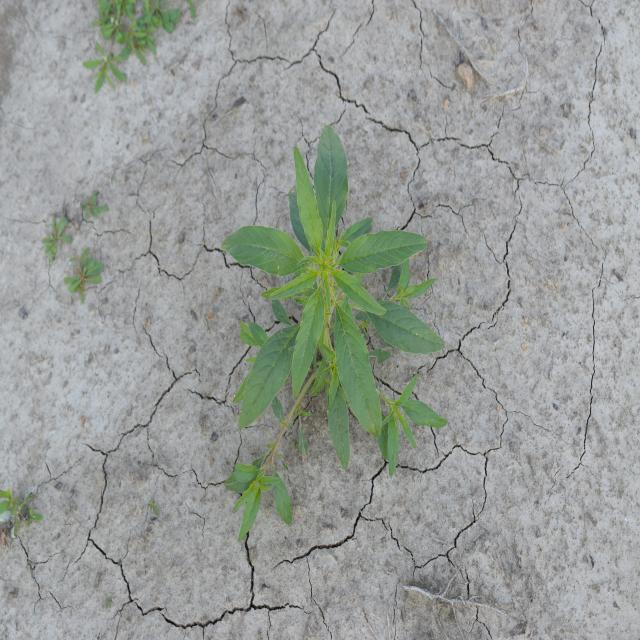Carpetweed: (78, 2, 199, 98), (61, 248, 106, 308), (38, 209, 75, 263), (76, 192, 111, 222)
Waterhemp: (218, 121, 450, 547)
